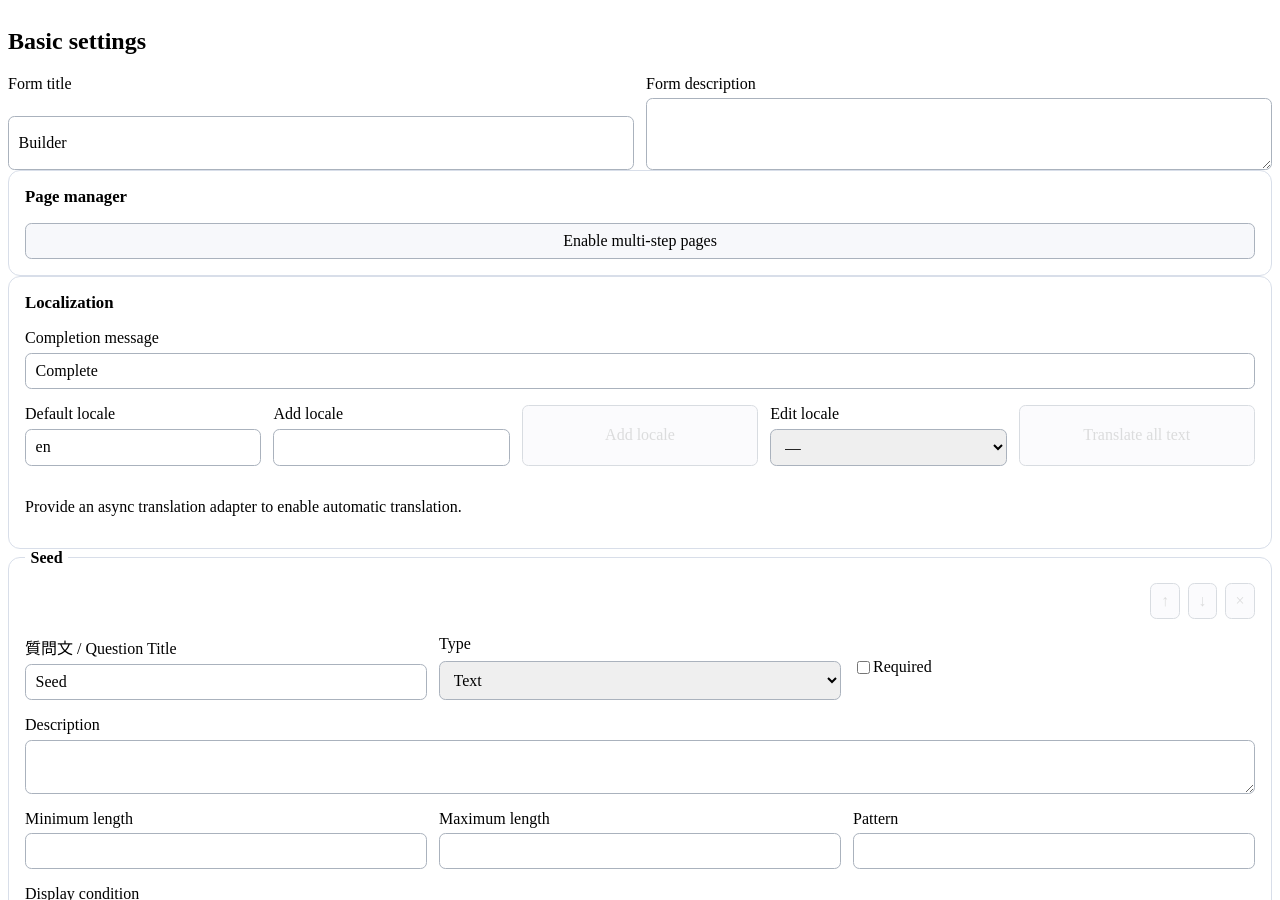
Test: FormBuilder v2.1.1 › creates and stores metadata for manual translations
The width and height of the screenshot is (1280, 900).
Select "ja" in the dropdown labelled "Edit locale" at point(888, 447), box [770, 429, 1007, 466]
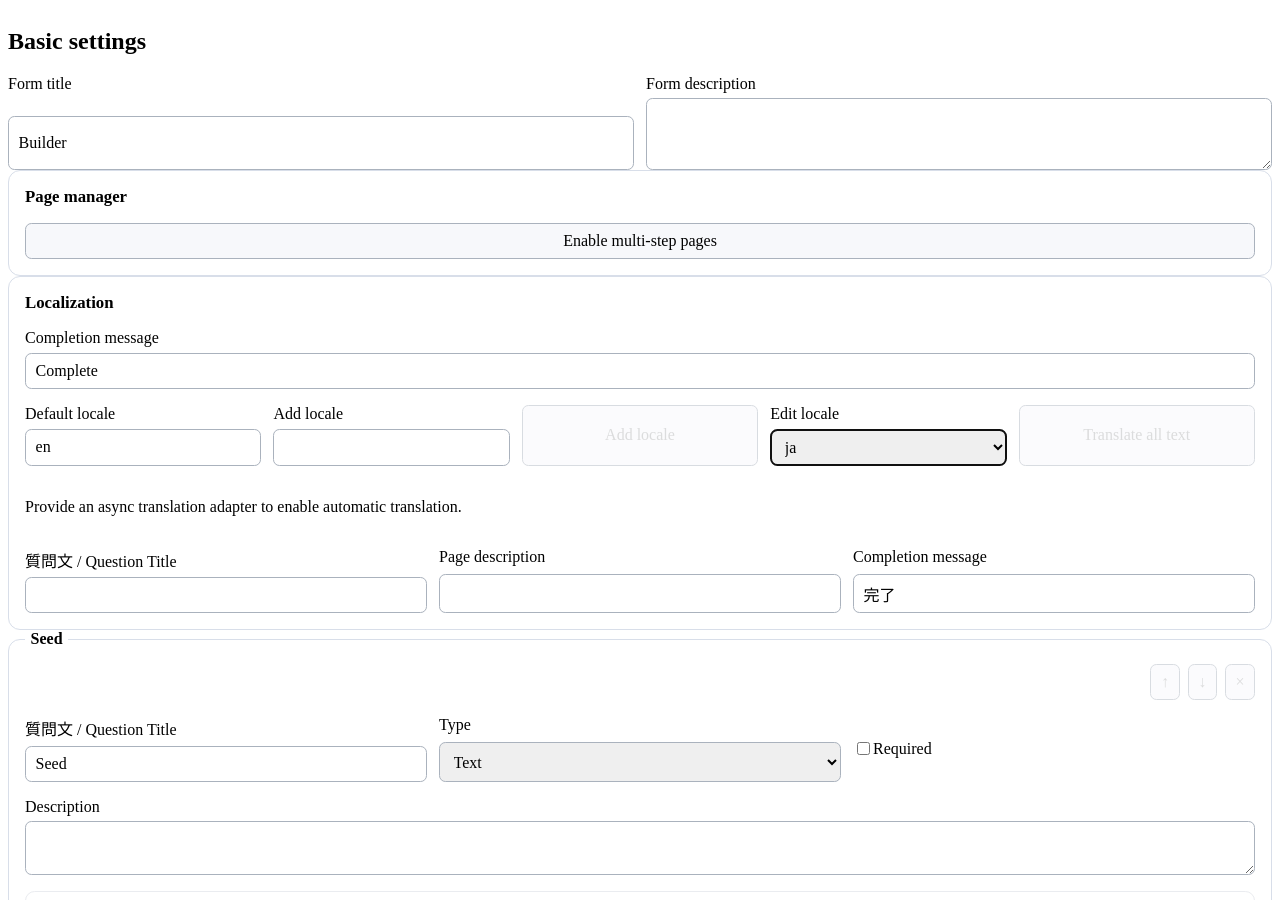
Type "済" into the 2nd field labelled "Completion message" at point(1054, 594), box [853, 574, 1255, 613]
(page scrolled)
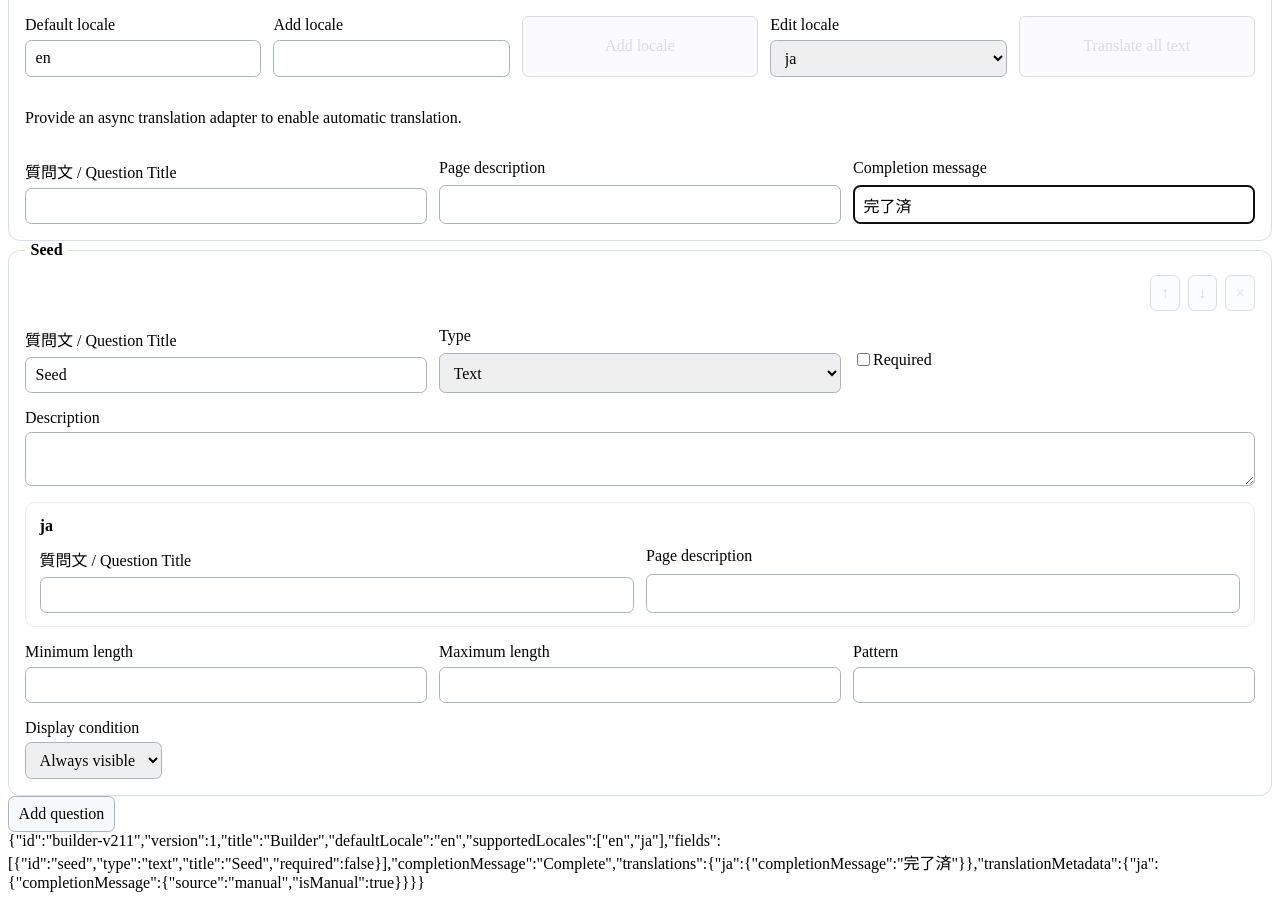
Expected: the text with test id "schema-state" shows "\"completionMessage\":{\"source\":\"manual\",\"isManual\":true}", [8, 832, 1159, 891]
